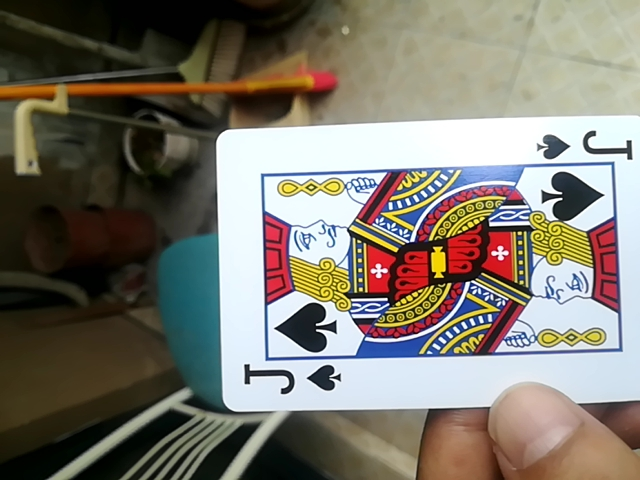ht j: (208, 115, 640, 418)
